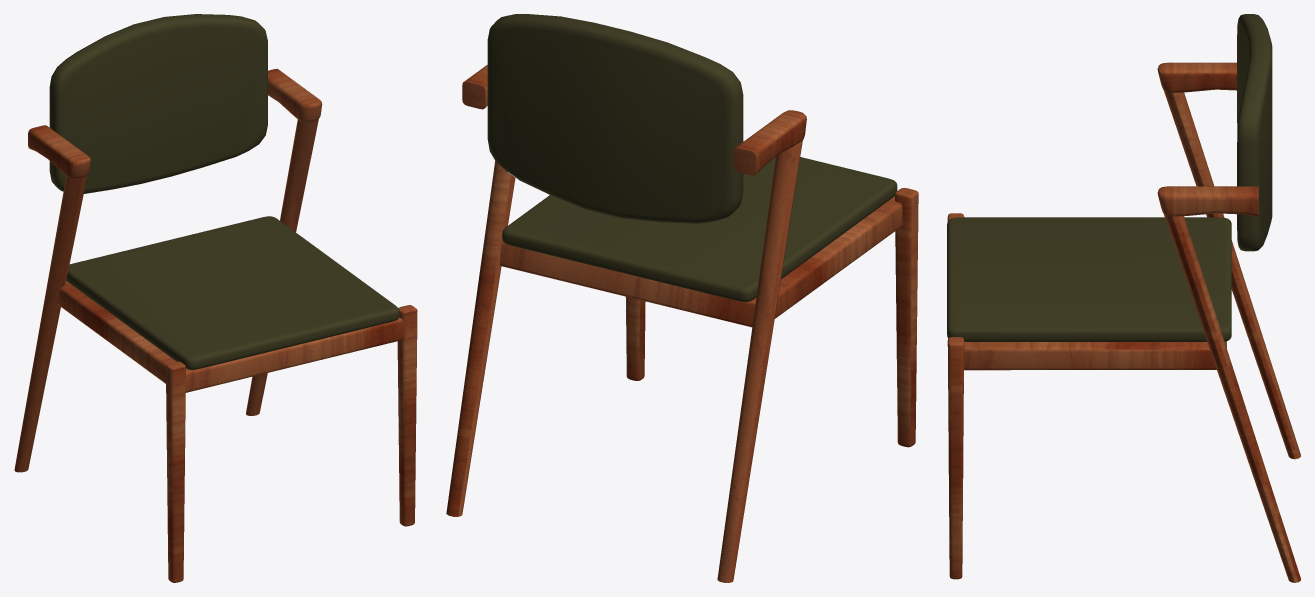
The model's file is LC_3056_chair_I_LOD3.FBX.
3 renders of one model, left to right at view 1: azimuth 30°, elevation 25°; view 2: azimuth 150°, elevation 25°; view 3: azimuth 270°, elevation 25°, orthographic. The views are drawn at different scales.
Parts seen in each view (by area): view 1: LC_3056_chair_I_LOD3; view 2: LC_3056_chair_I_LOD3; view 3: LC_3056_chair_I_LOD3.
Part boxes in pixels (bbox=[...]): LC_3056_chair_I_LOD3: bbox=[14, 14, 417, 582]; LC_3056_chair_I_LOD3: bbox=[446, 14, 918, 582]; LC_3056_chair_I_LOD3: bbox=[947, 14, 1300, 582].
Bounding box in the file's own units: 62.76 × 103 × 69.81.
1 material, 1 textured.
